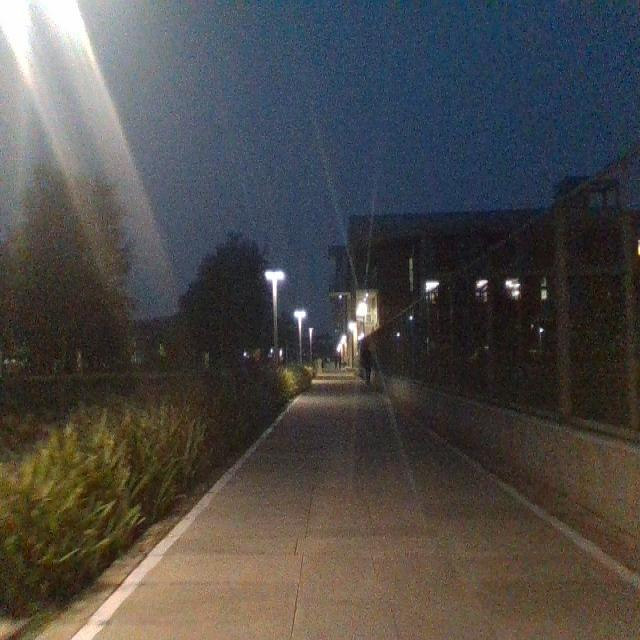lane: (91, 391, 640, 640)
